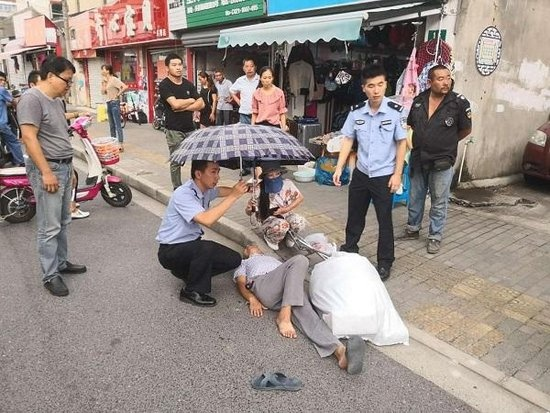falling: (225, 239, 366, 378)
